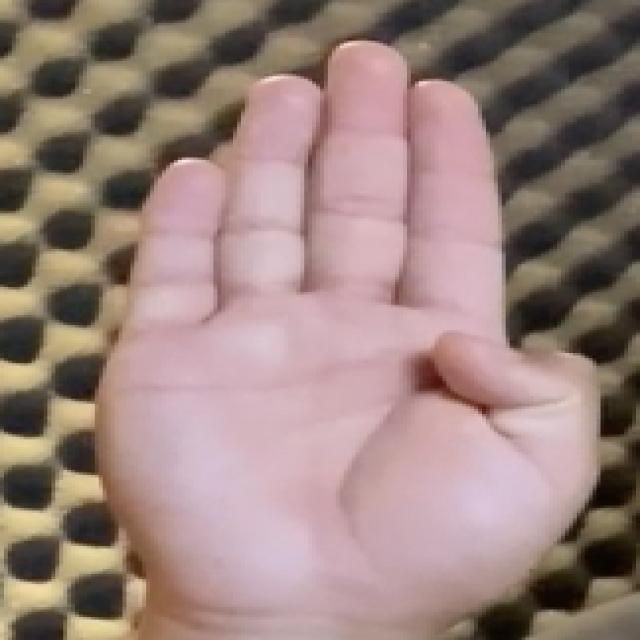B: (85, 24, 620, 624)
